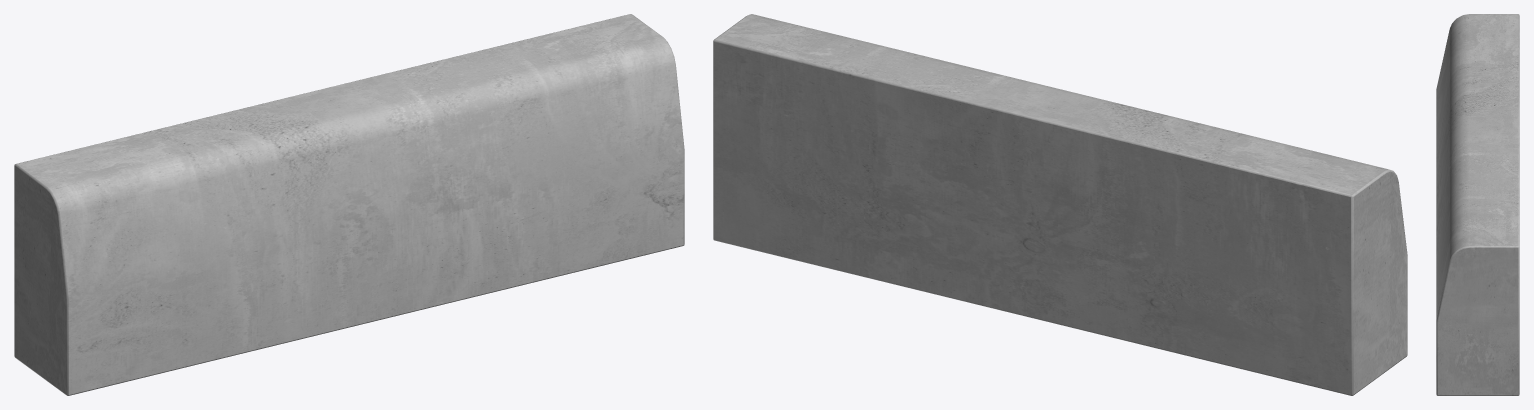
Rendered from curb.glb.
The picture shows the model from 3 angles, left to right: view 1: azimuth 30°, elevation 25°; view 2: azimuth 150°, elevation 25°; view 3: azimuth 270°, elevation 25°; orthographic projection. The views are drawn at different scales.
Visible parts, largest first — view 1: curb.001; view 2: curb.001; view 3: curb.001.
Part boxes in pixels (x1,y1,x2,y2): curb.001: [14, 14, 684, 395]; curb.001: [713, 14, 1407, 395]; curb.001: [1436, 14, 1519, 395].
Size of the model in its own units: 1 by 0.3 by 0.1507.
1 material, 1 textured.
